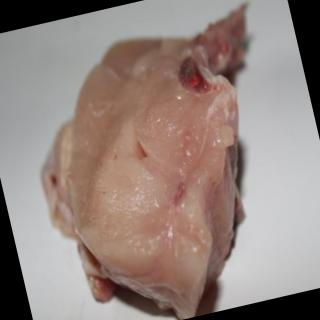Ayam: (14, 1, 314, 320)
